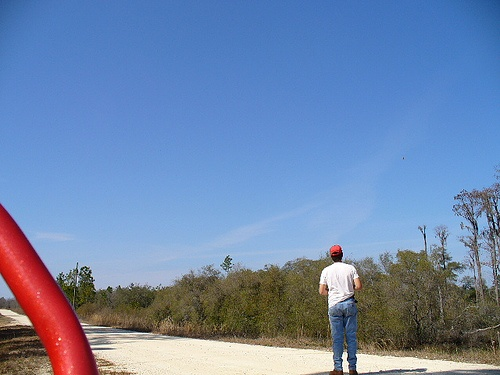head: (330, 245, 344, 263)
person: (318, 241, 360, 375)
